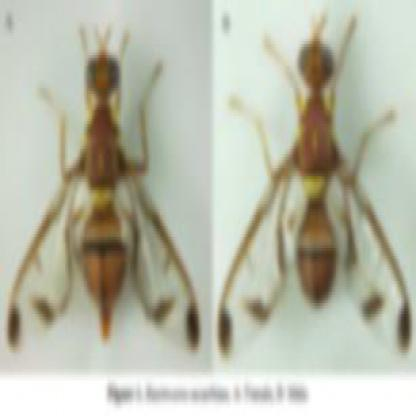fruit fly: (220, 24, 416, 364), (8, 23, 199, 356)
